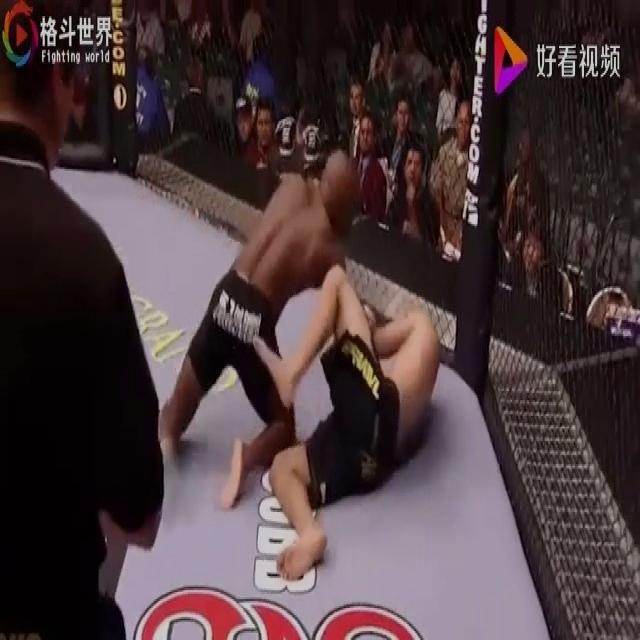fight: (159, 114, 503, 549)
non-fight: (1, 0, 166, 638)
